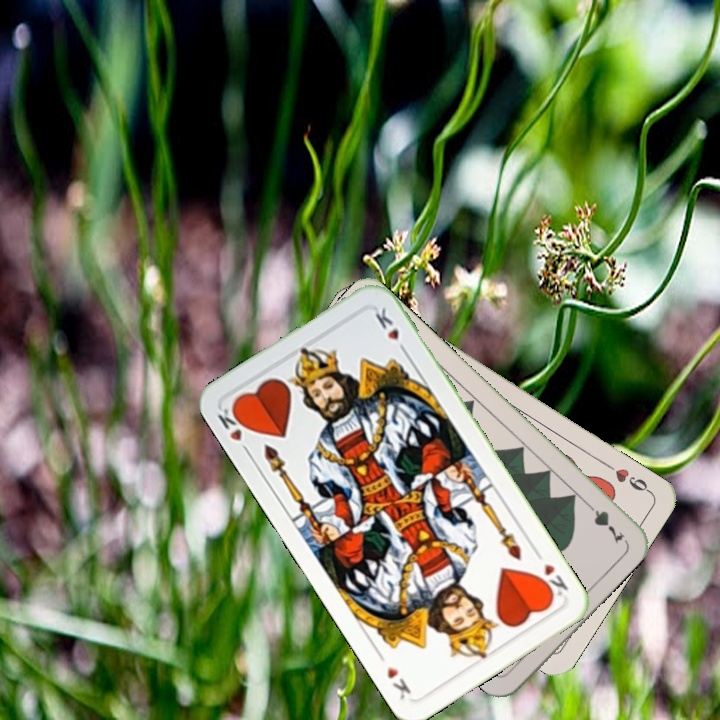G7: (580, 497, 627, 547)
H9: (601, 458, 654, 496)
HK: (213, 399, 253, 458), (530, 546, 571, 603)
